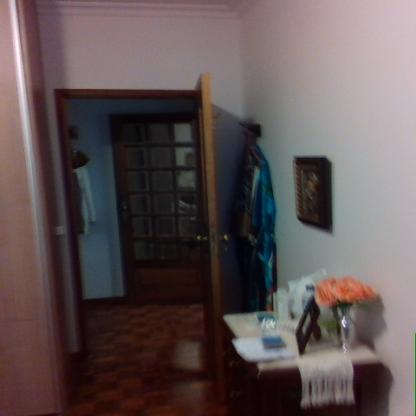open: (46, 64, 236, 392)
